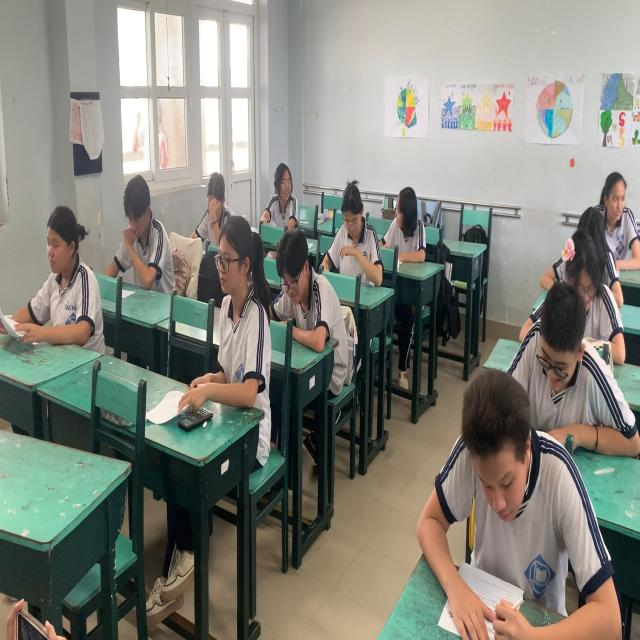cheating: (251, 143, 303, 247), (386, 171, 434, 268)
not_cheating: (429, 351, 611, 640), (512, 284, 621, 454), (15, 196, 110, 368), (208, 212, 261, 448), (550, 192, 620, 350), (276, 208, 338, 386), (110, 159, 178, 308), (330, 171, 381, 298), (596, 160, 640, 266), (186, 171, 232, 271)
